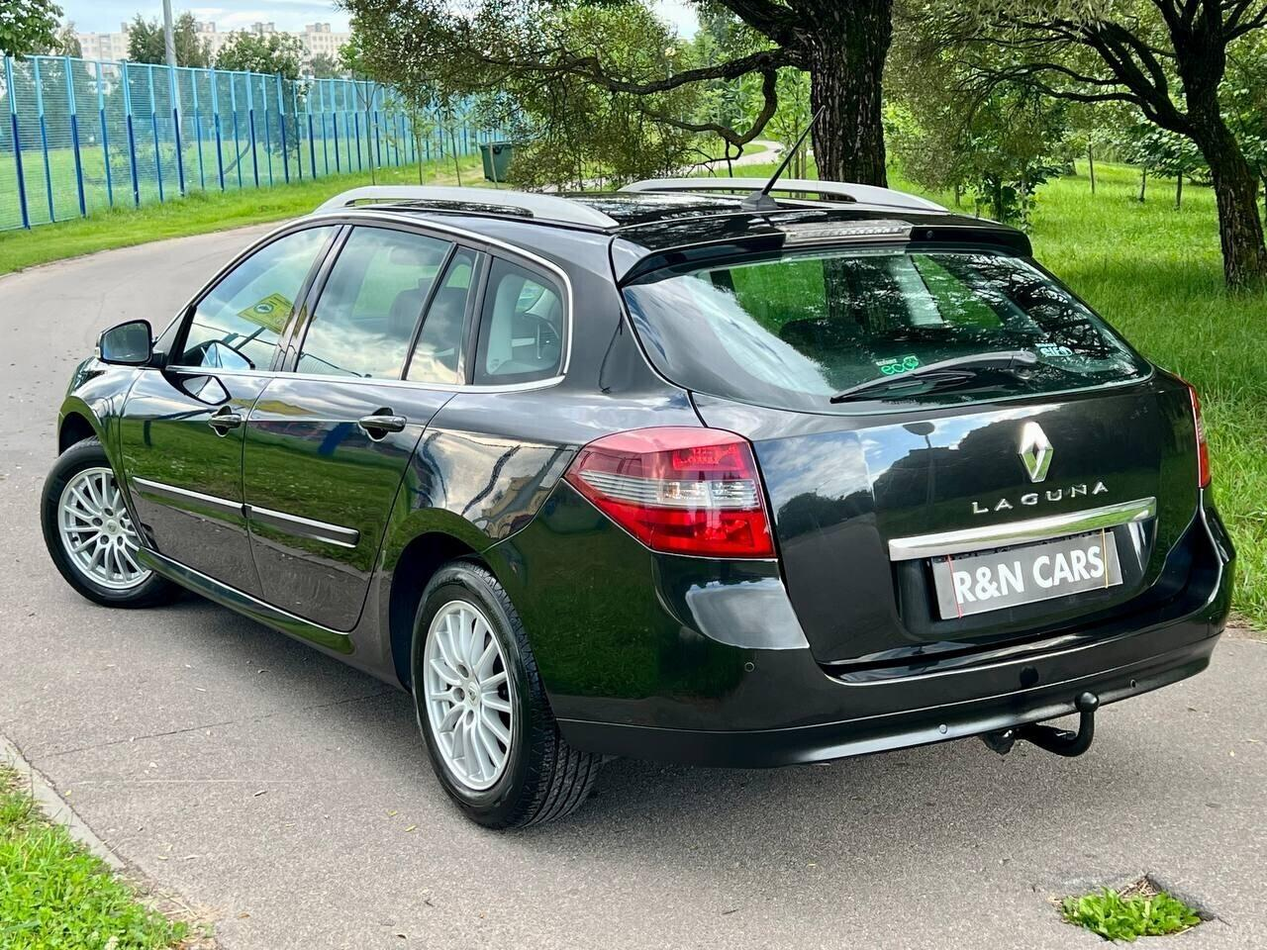Laguna_2010-2015: (35, 188, 1234, 846)
